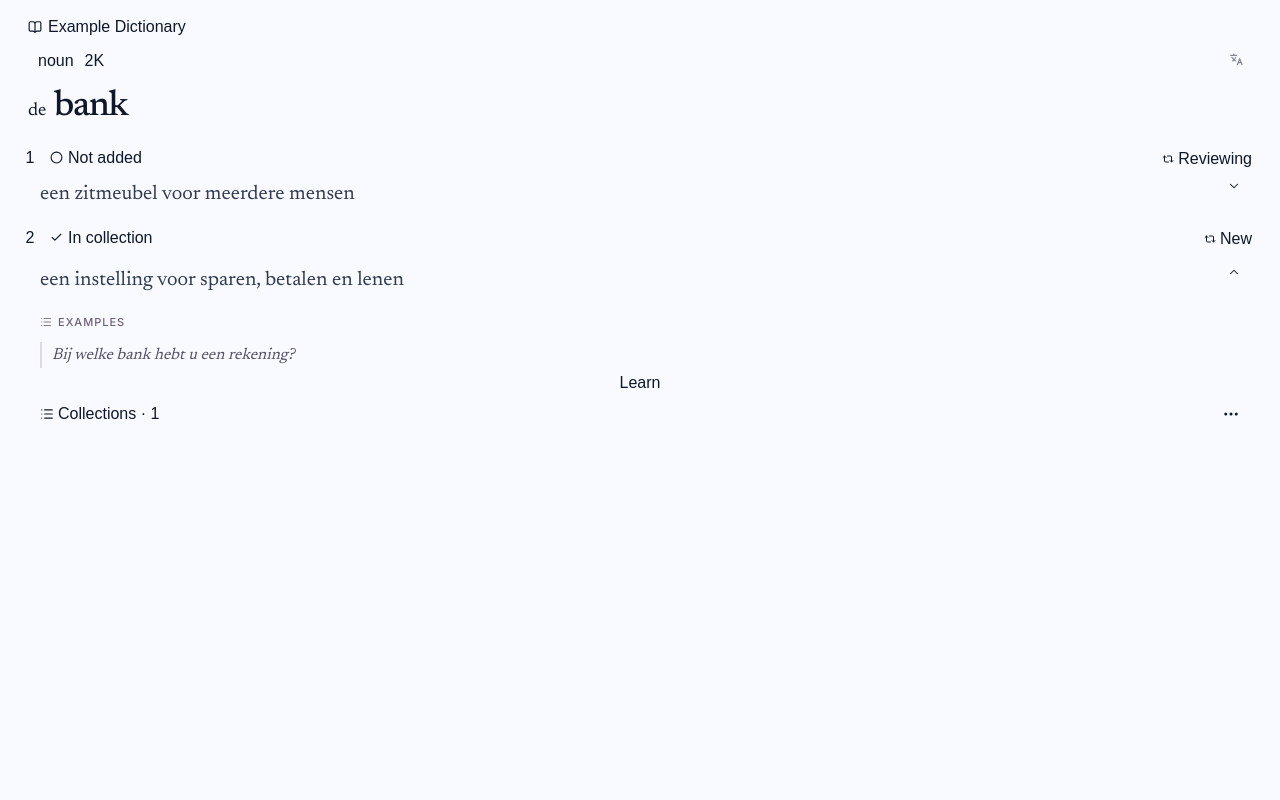
Test case: LibrarySenseCardV2Session › uncertain quick writes reconcile by reading and keep unknown membership distinct
Click the button "Collections · 1": coordinates (100, 414) [40, 400, 159, 428]
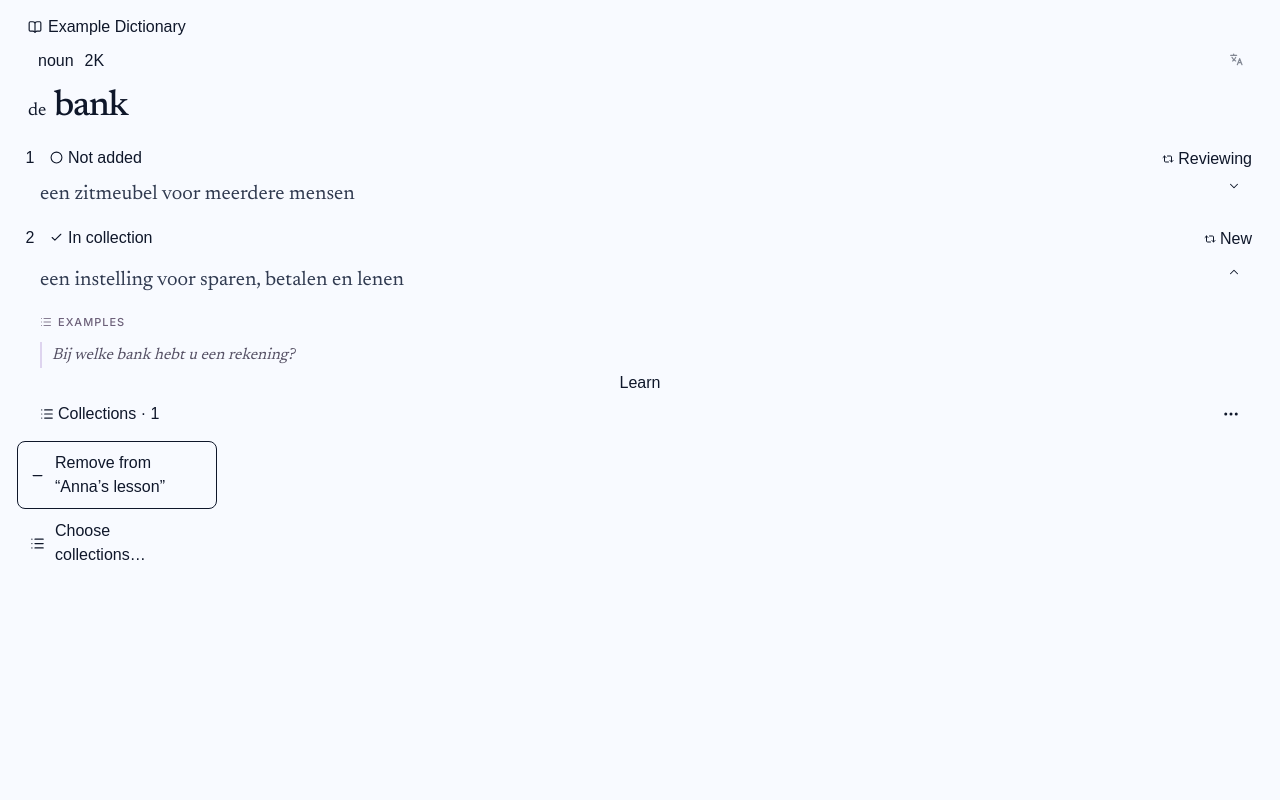
Click the menu item "Remove from “Anna’s lesson”": coordinates (117, 475) [17, 441, 217, 509]
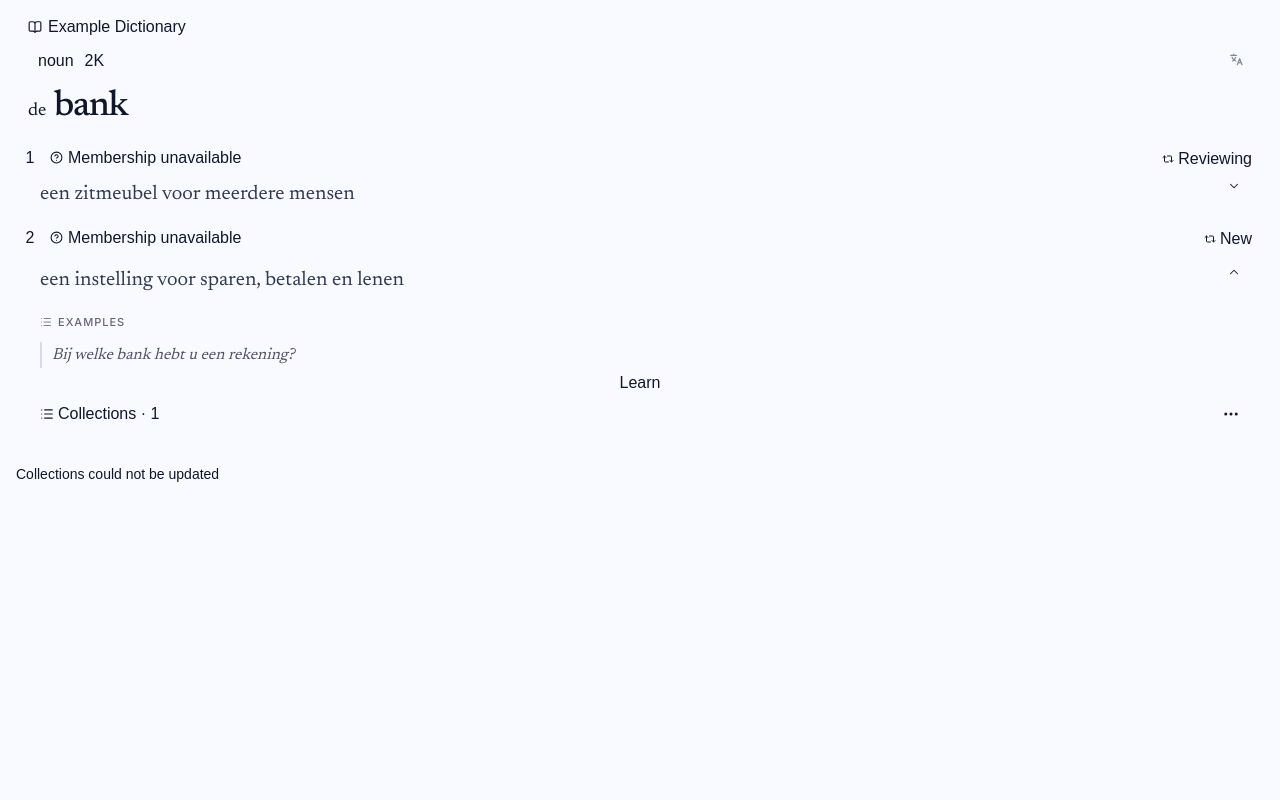
Now the 2nd text "Membership unavailable" is shown, box [50, 230, 241, 246]
Now the message reads "Collections could not be updated", box [16, 466, 219, 482]
